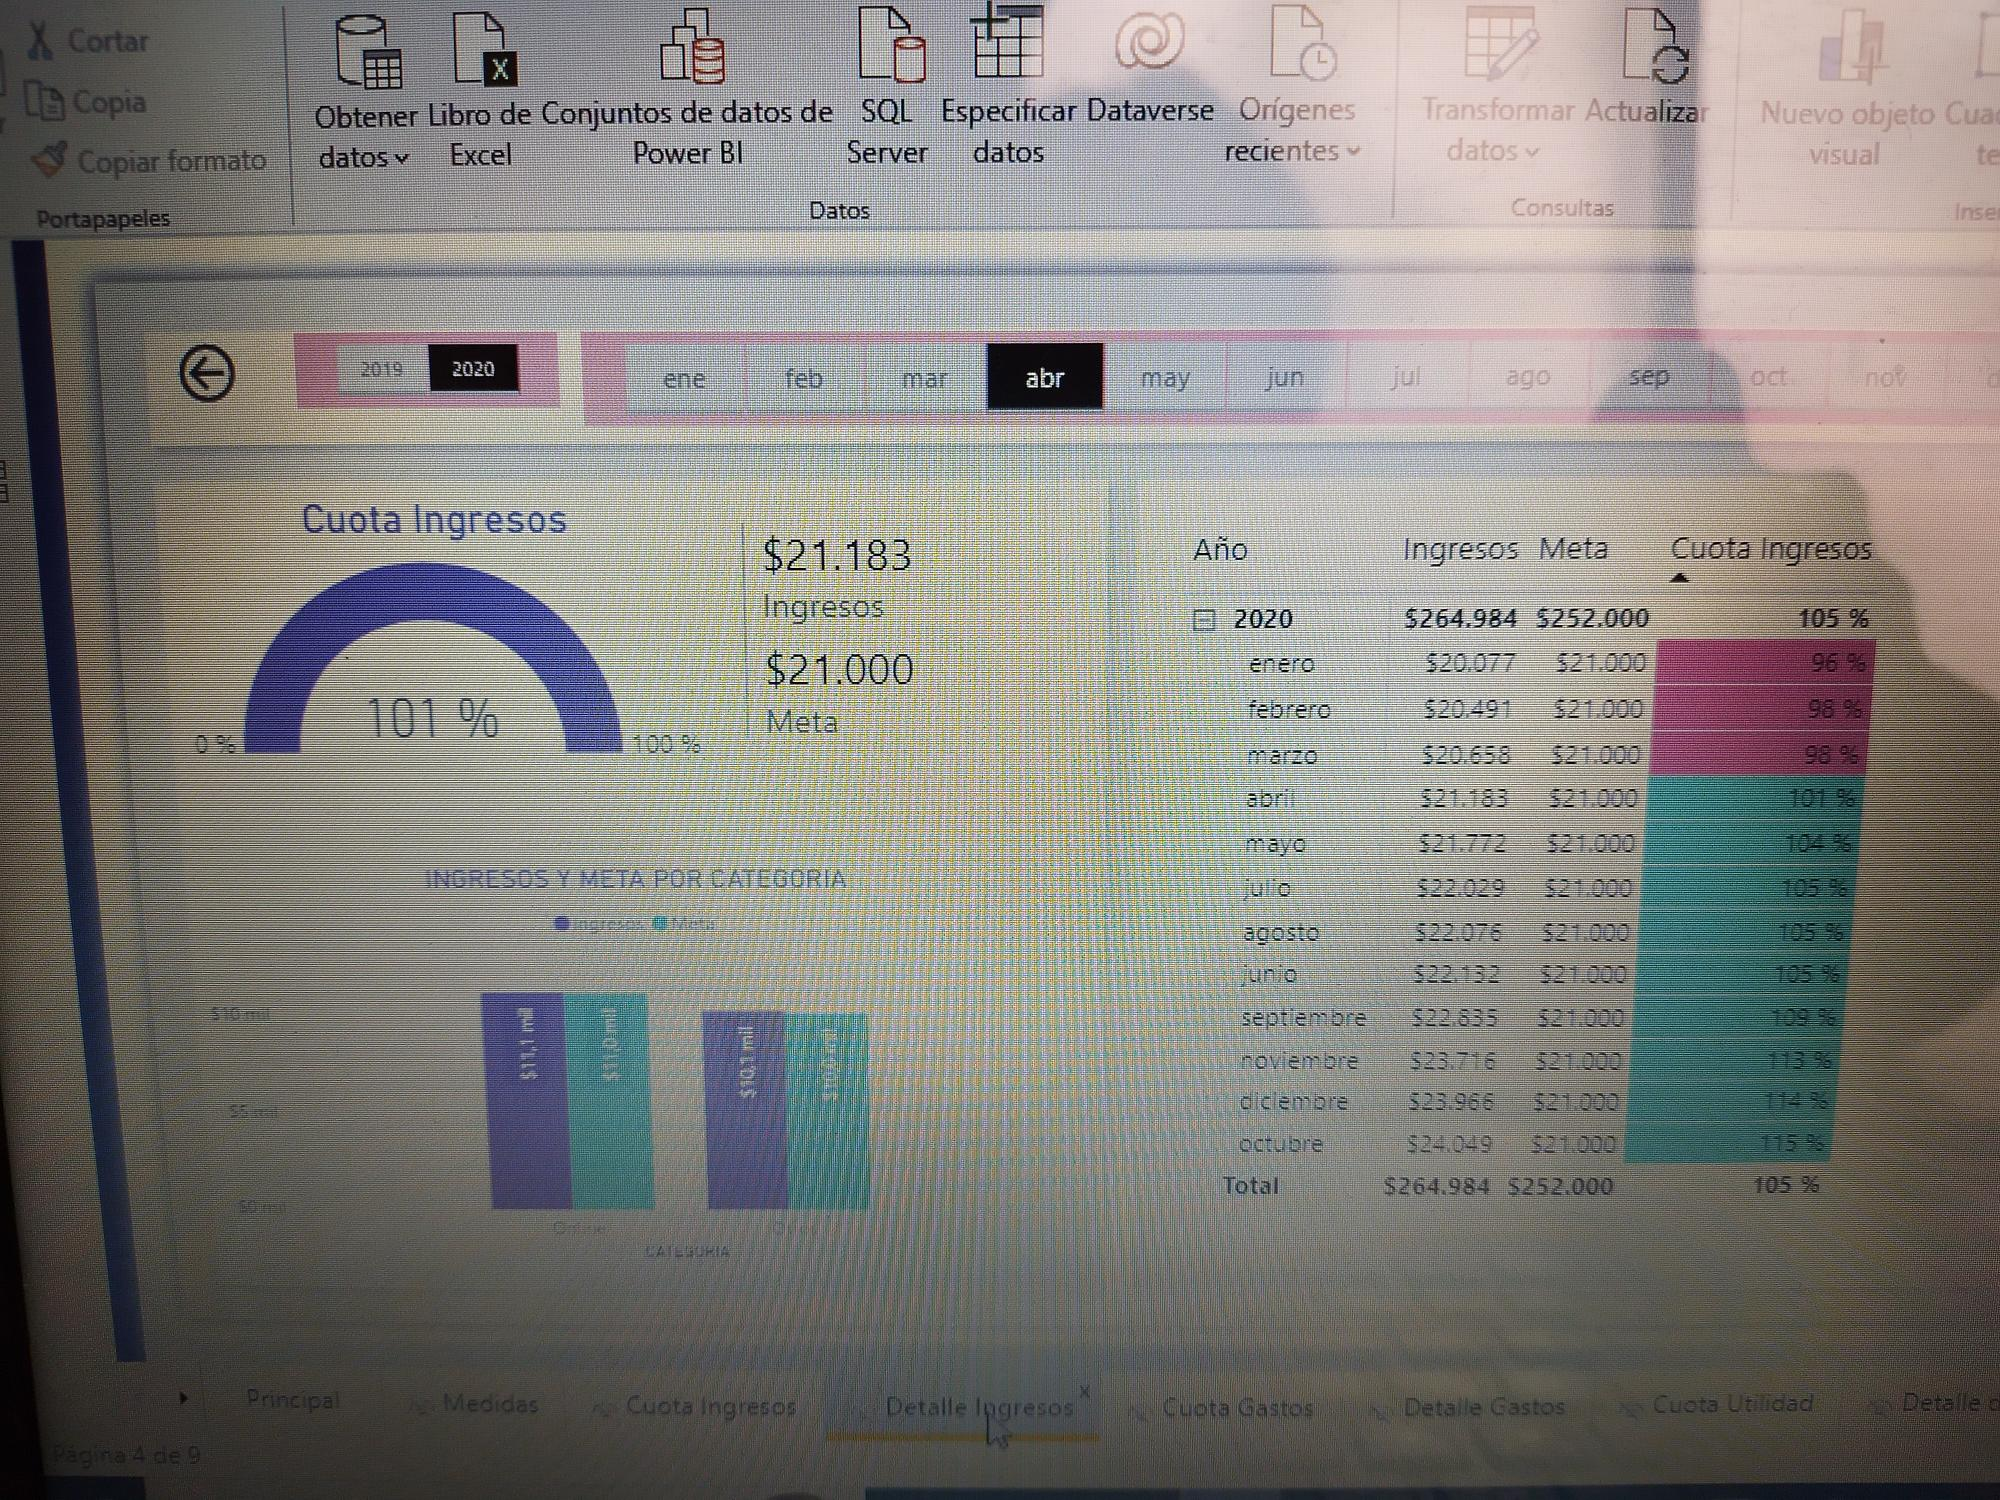

Layout of this report page (visuals, bound fields, positions):
{"tool":"powerbi","page":{"name":"Detalle Ingresos","canvas":[1280,720],"ordinal":3},"visuals":[{"type":"slicer","fields":{"Values":["Calendario.Año"]},"box":[149.1,56.8,157.6,44],"z":0},{"type":"slicer","fields":{"Values":["Calendario.Mes"]},"box":[320.9,56.8,906,55.4],"z":1000},{"type":"gauge","fields":{"Y":["Cuota %.Cuota Ingresos"]},"box":[61.1,153.4,333.7,173.3],"z":2000},{"type":"multiRowCard","fields":{"Values":["Finanzas.Ingresos","Expectativas.Meta"]},"box":[407.6,163.3,214.4,163.3],"z":3000},{"type":"actionButton","box":[72.4,56.8,52.5,45.4],"z":7000},{"type":"clusteredColumnChart","title":"INGRESOS Y META POR CATEGORIA","fields":{"Y":["Finanzas.Ingresos","Expectativas.Meta"],"Category":["Categoria.Cat-Otros"]},"box":[61.1,379.2,560.9,268.4],"z":7001},{"type":"pivotTable","fields":{"Rows":["Calendario.Año","Calendario.Nombre del mes"],"Values":["Finanzas.Ingresos","Expectativas.Meta","Cuota %.Cuota Ingresos"]},"box":[676,163.3,519.8,484.3],"z":7002}]}

Visuals, with their boxes on the page's 1280x720 design canvas (x1, y1, x2, y2). These are canvas units, not pixel positions in the 2000x1500 screenshot, which may show the page scaled, cropped or inside an application window:
slicer - Calendario.Año: x1=149, y1=57, x2=307, y2=101
slicer - Calendario.Mes: x1=321, y1=57, x2=1227, y2=112
gauge - Cuota %.Cuota Ingresos: x1=61, y1=153, x2=395, y2=327
multiRowCard - Finanzas.Ingresos x Expectativas.Meta: x1=408, y1=163, x2=622, y2=327
actionButton: x1=72, y1=57, x2=125, y2=102
"INGRESOS Y META POR CATEGORIA" clusteredColumnChart: x1=61, y1=379, x2=622, y2=648
pivotTable - Calendario.Año x Calendario.Nombre del mes: x1=676, y1=163, x2=1196, y2=648
